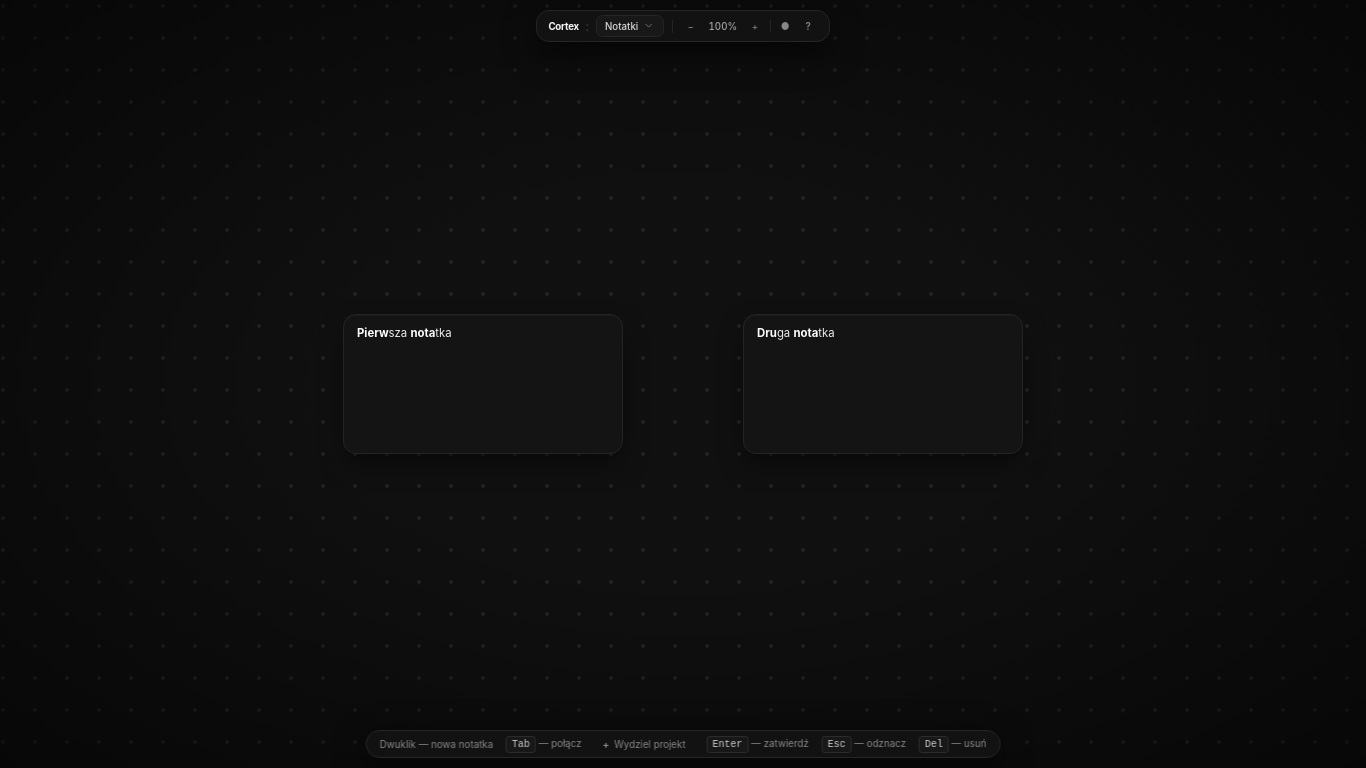
it: NotesCanvas - Selection, Tab Linking, and Edge Management › starts linking mode with selected note as source when Tab is pressed
The image size is (1366, 768).
Press the mouse on the element with test id "note-card-node-1" at (483, 384), box top-left (343, 314), bottom-right (623, 454)
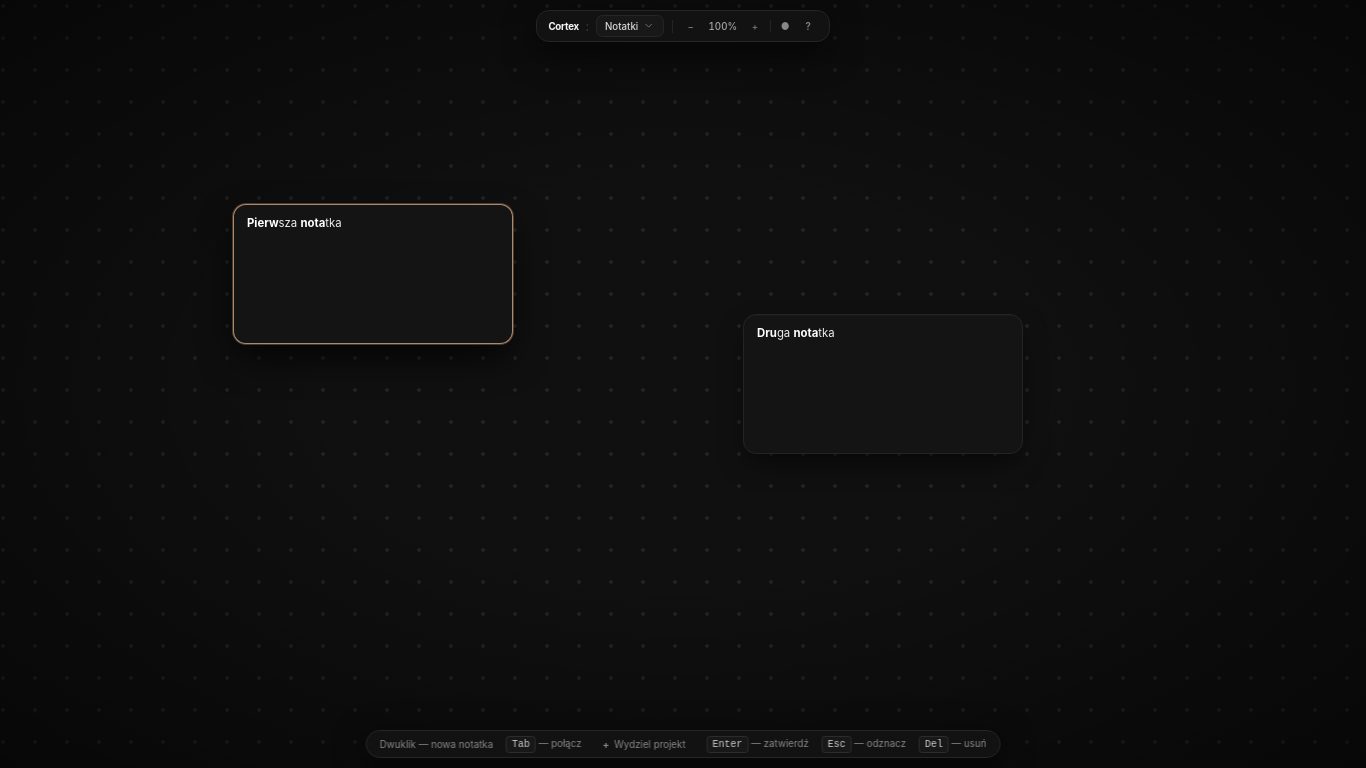
Expected: the element with test id "note-card-node-1" has attribute data-selected="true", top-left (233, 204), bottom-right (513, 344)
Press Tab
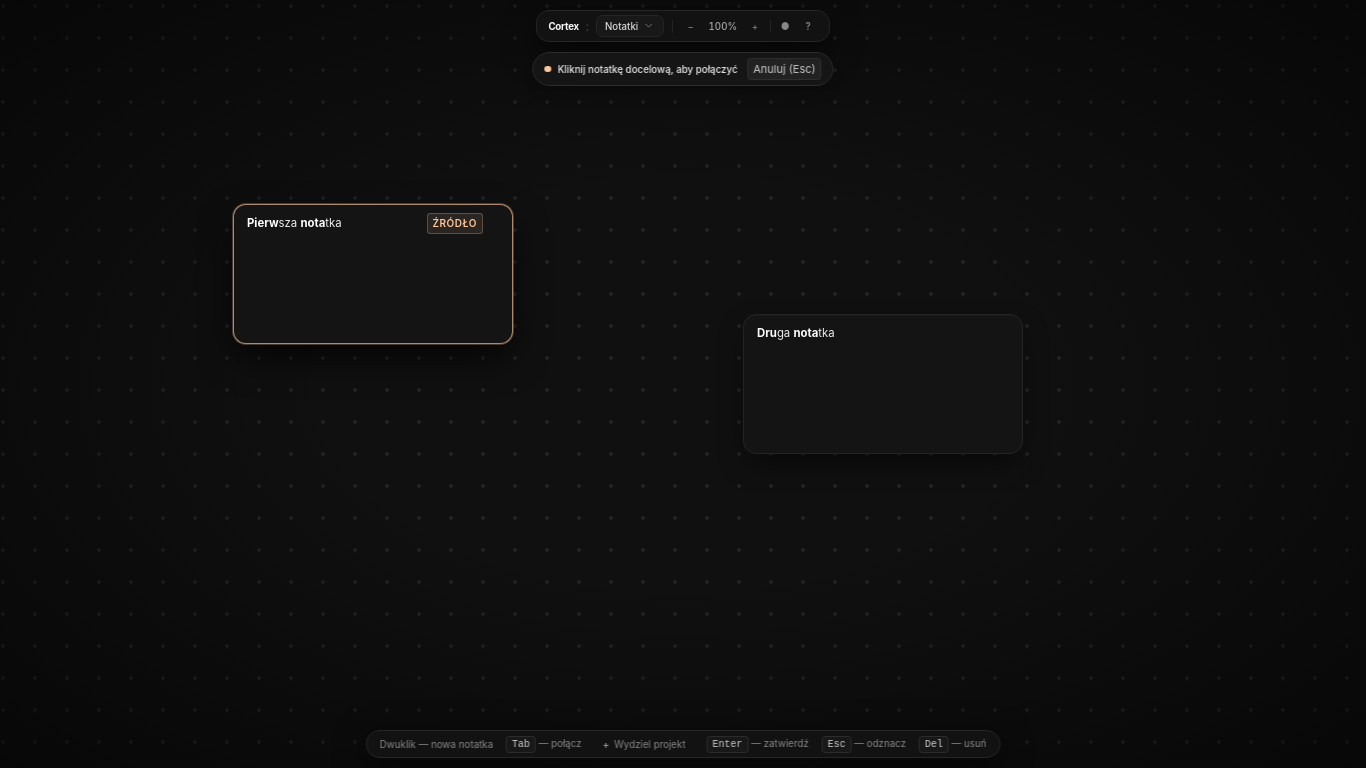
Expected: the text "Kliknij notatkę docelową, aby połączyć" is shown, top-left (558, 62), bottom-right (738, 76)
